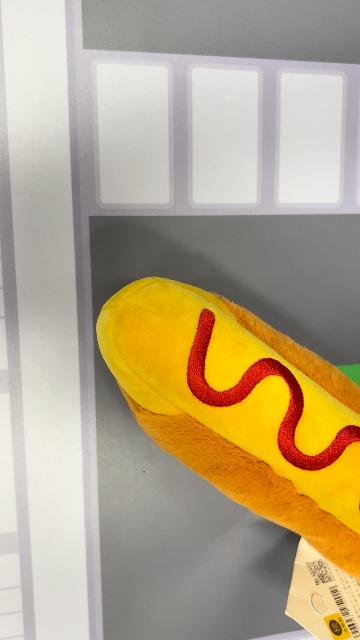hotdog: (95, 274, 359, 582)
